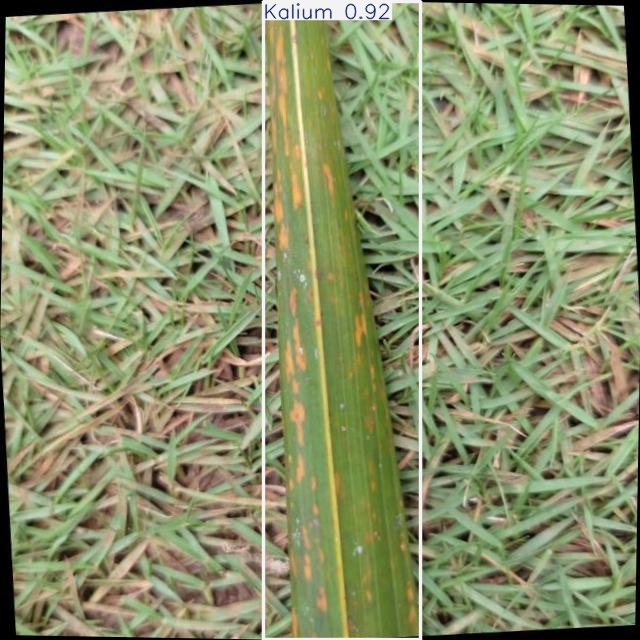Kalium: (263, 2, 420, 639)
